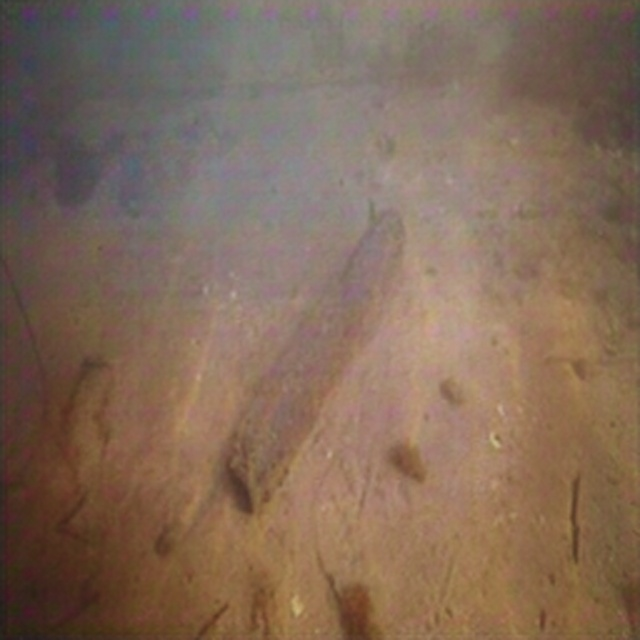mine: (228, 207, 404, 514)
